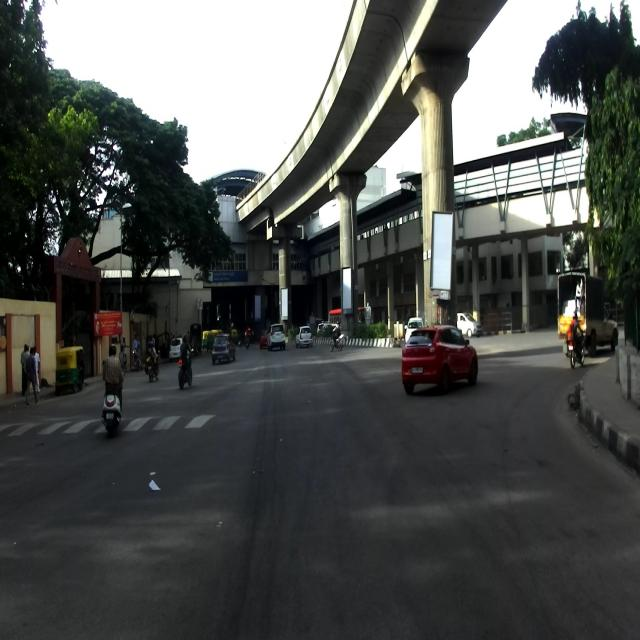Car_Maruti-Suzuki: (401, 323, 478, 396), (210, 332, 237, 364)
motorcycle_bajaj: (178, 346, 195, 391)
scooter: (100, 358, 126, 436)
truck: (556, 269, 619, 354)
